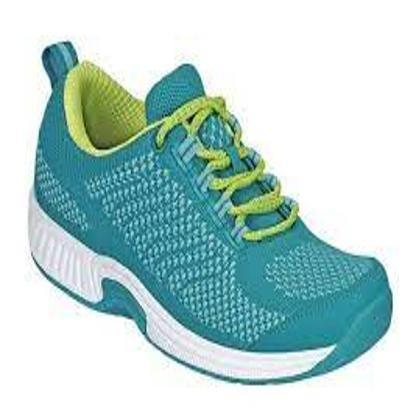not trash: (26, 41, 397, 388)
